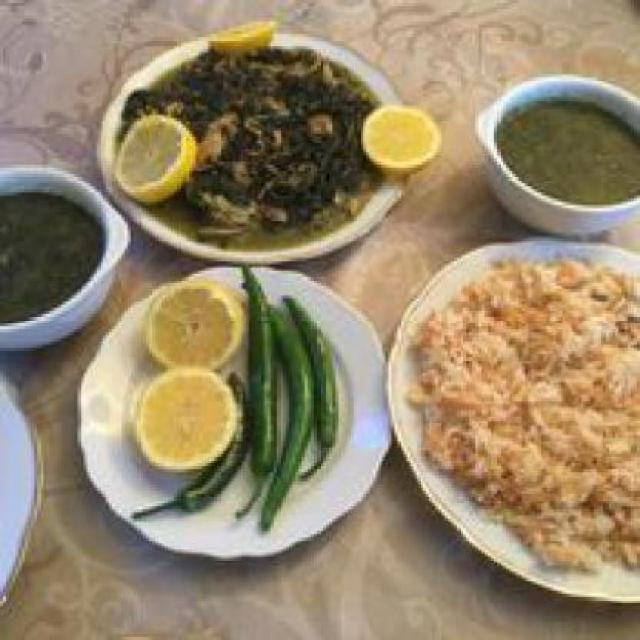fried rice: (400, 248, 637, 578)
molokhia: (105, 31, 388, 258), (475, 71, 637, 227)
